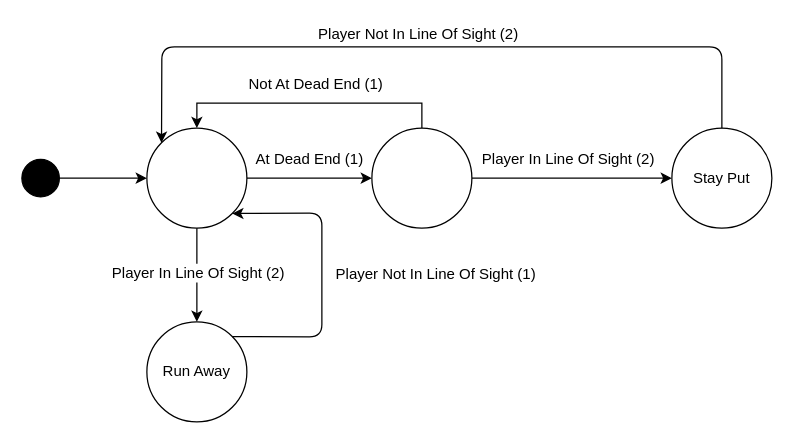
The diagram is 794 pixels wide and 444 high, and some of its shapes have lost their labels. The shapes that lost their labels are listed below. From the top down, each one's centre as x and y in pixels, then its label:
At pixel 196 177: "Wander".
At pixel 421 177: "Turn Around".
